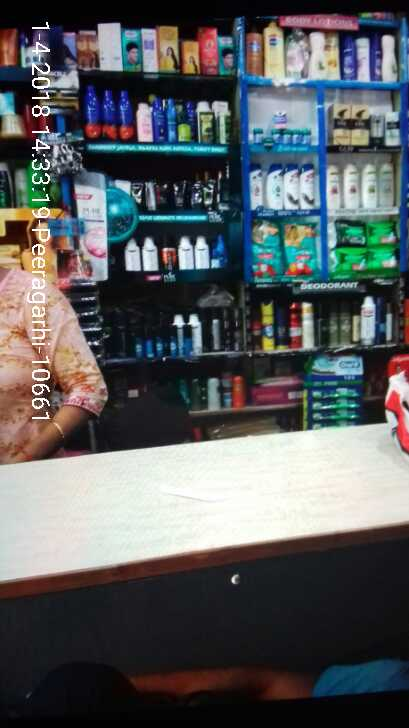oralcare: (305, 354, 369, 434)
vicks: (256, 109, 315, 145)
